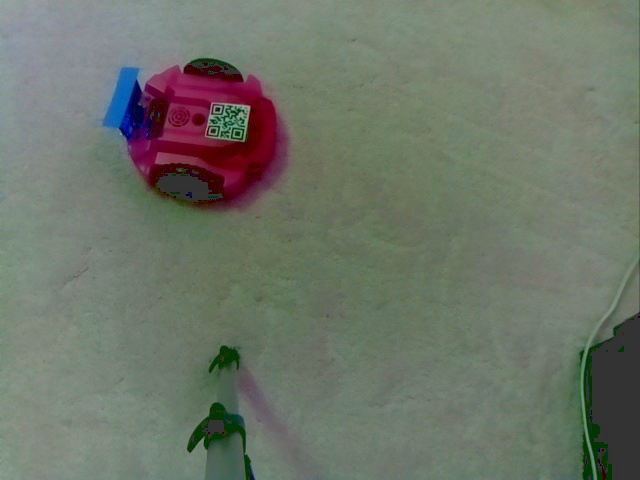board: (105, 62, 160, 140)
chassis: (109, 56, 282, 206)
